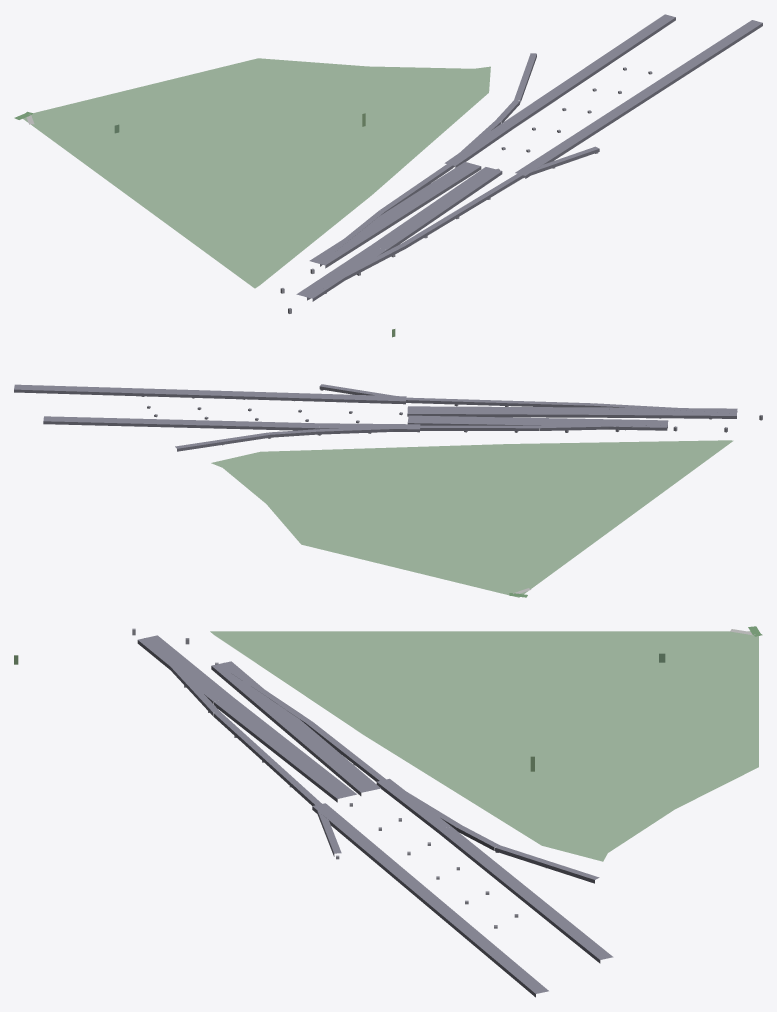
3 renders of one model, top to bottom at view 1: azimuth 30°, elevation 25°; view 2: azimuth 150°, elevation 25°; view 3: azimuth 270°, elevation 25°, orthographic. The views are drawn at different scales.
Size of the model in its own units: 410 by 9.03 by 348.
